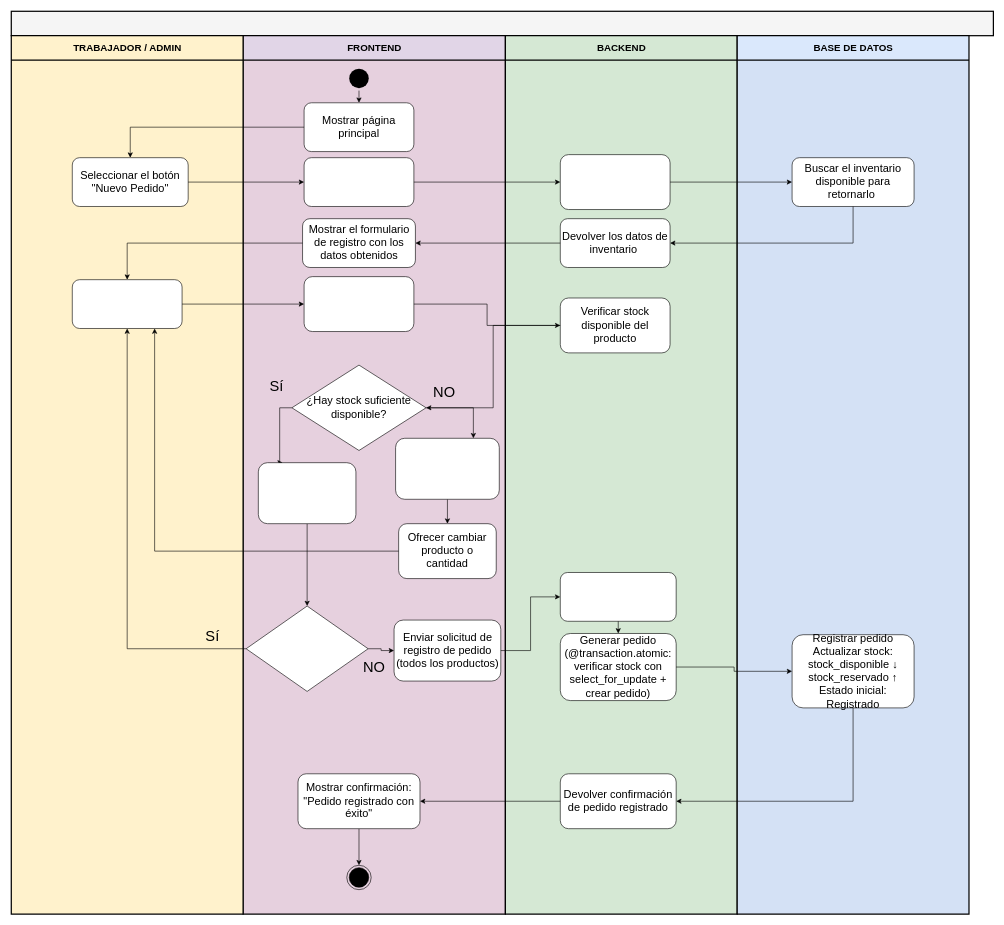
Some shapes in this 1004 by 925 pixel diagram are drawn without their labels. The centre of each missing label's shape, as x and y in pixels:
Consultar el inventario (productos y stock): point 615,182
DIAGRAMA DE ACTIVIDADES - REGISTRO DE PEDIDOS - ORBYTE: point 502,23
Enviar solicitud de disponibilidad al backend: point 358,304
Generar solicitud de inventario: point 358,181
Mostrar aviso: "Producto añadido con éxito": point 307,493
Mostrar aviso: "Stock insuficiente": point 447,468
Seleccionar producto: point 127,303
Validar cliente_id y registrado_por: point 618,596
¿Desea agregar otro producto?: point 307,648
